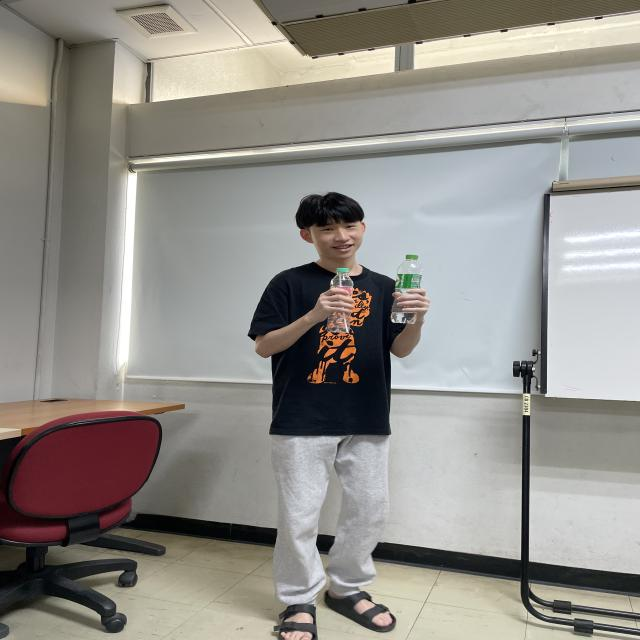bottle: (390, 254, 423, 325), (327, 268, 355, 334)
